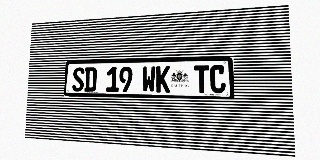1: (106, 67, 119, 92)
9: (119, 66, 132, 92)
C: (210, 65, 226, 93)
D: (84, 67, 97, 92)
K: (156, 66, 170, 93)
S: (72, 67, 85, 92)
T: (194, 65, 209, 93)
W: (142, 66, 156, 92)
